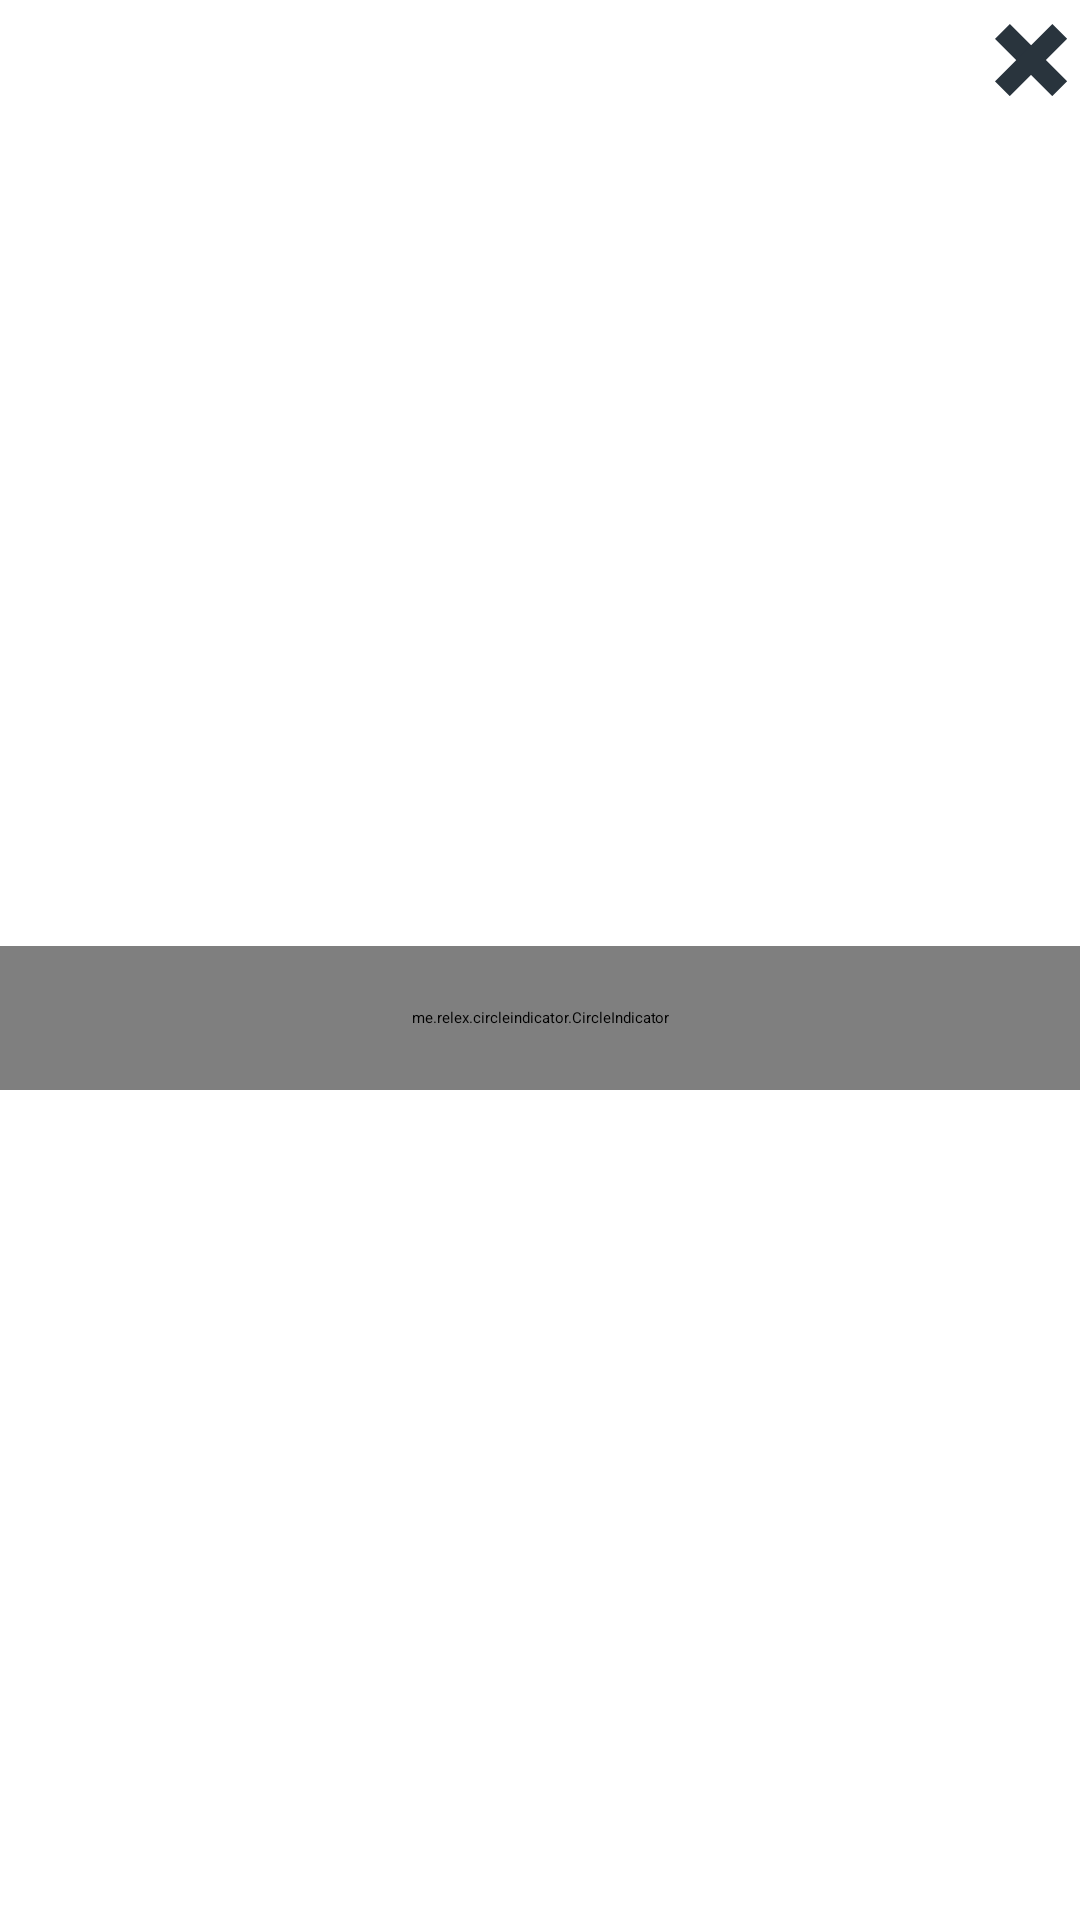

Named icons in this screenshot (1080*1920) and their bounding boxes, {"left": x1, "top": y1, "right": x2, "bottom": y2}:
exit: {"left": 995, "top": 24, "right": 1067, "bottom": 96}
